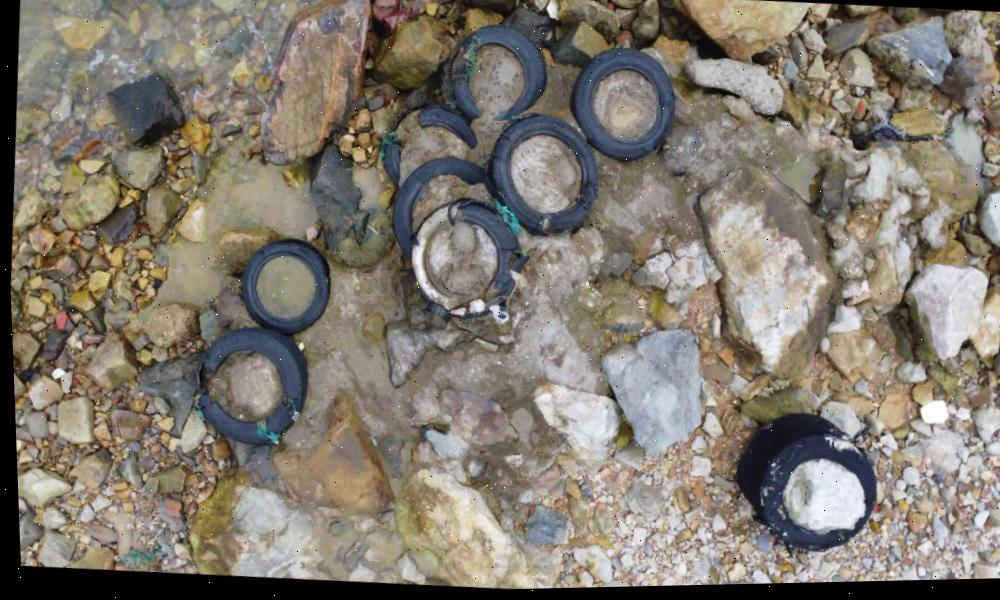tire: (727, 409, 876, 552), (193, 327, 310, 453), (481, 115, 599, 239), (407, 206, 519, 322), (569, 50, 678, 169), (446, 25, 548, 129), (237, 237, 329, 335)
